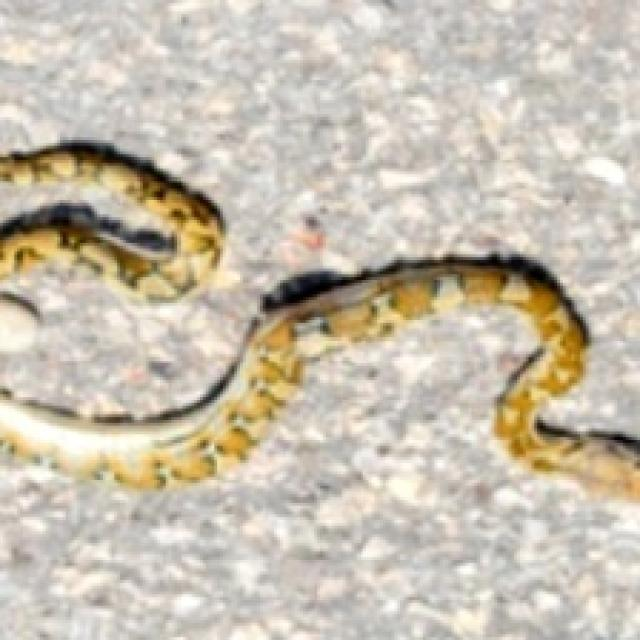reticulated python: (0, 256, 640, 499), (0, 141, 225, 302)
